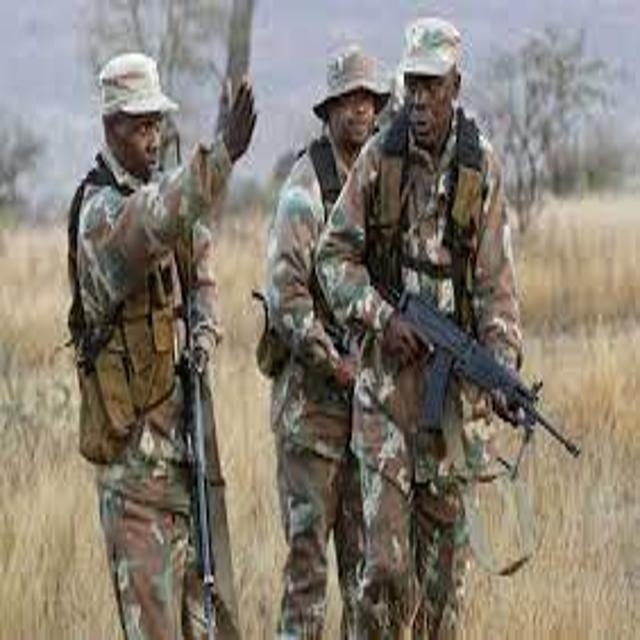gun: (329, 243, 594, 482), (162, 257, 246, 599)
ranger: (294, 6, 560, 640), (30, 36, 268, 640), (228, 29, 452, 636)
